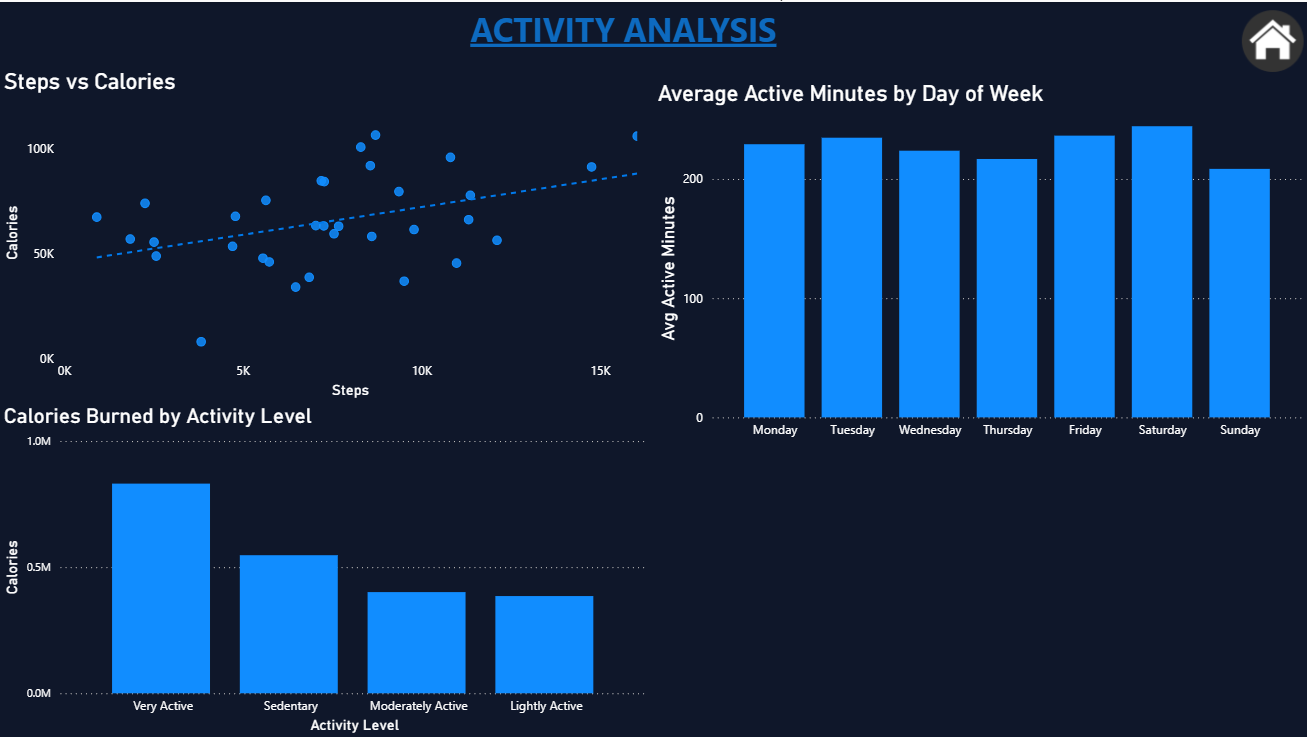

This screenshot's page, from the dashboard's own definition file:
{"tool":"powerbi","page":{"name":"Activity Analysis","canvas":[1280,720],"ordinal":1},"visuals":[{"type":"scatterChart","title":"Steps vs Calories","fields":{"Category":["Users_Table.Customer_ID"],"X":["Avg(Daily_activity.Total_Steps)"],"Y":["_Measures.Total Calories"]},"box":[0,64.8,639.5,327.7],"z":0},{"type":"columnChart","title":"Average Active Minutes by Day of Week","fields":{"Y":["_Measures.Avg Active Minutes"],"Category":["Date_Table.Day of Week"]},"box":[639.5,77,640.8,359.5],"z":1000},{"type":"columnChart","title":"Calories Burned by Activity Level","fields":{"Y":["_Measures.Total Calories"],"Category":["Daily_activity.Activity_Level"]},"box":[0,392.5,640.8,327.7],"z":2000},{"type":"textbox","box":[291,0,639.5,64.8],"z":2001},{"type":"actionButton","box":[1211.8,0,68.5,77],"z":2002}]}

Visuals, with their boxes in screenshot pixels (x1, y1, x2, y2), scaled from the page's 1280x720 canvas onto the 1307x737 screenshot:
"Steps vs Calories" scatterChart: 0, 66, 653, 402
"Average Active Minutes by Day of Week" columnChart: 653, 79, 1306, 447
"Calories Burned by Activity Level" columnChart: 0, 402, 654, 736
textbox: 297, 0, 950, 66
actionButton: 1237, 0, 1306, 79
